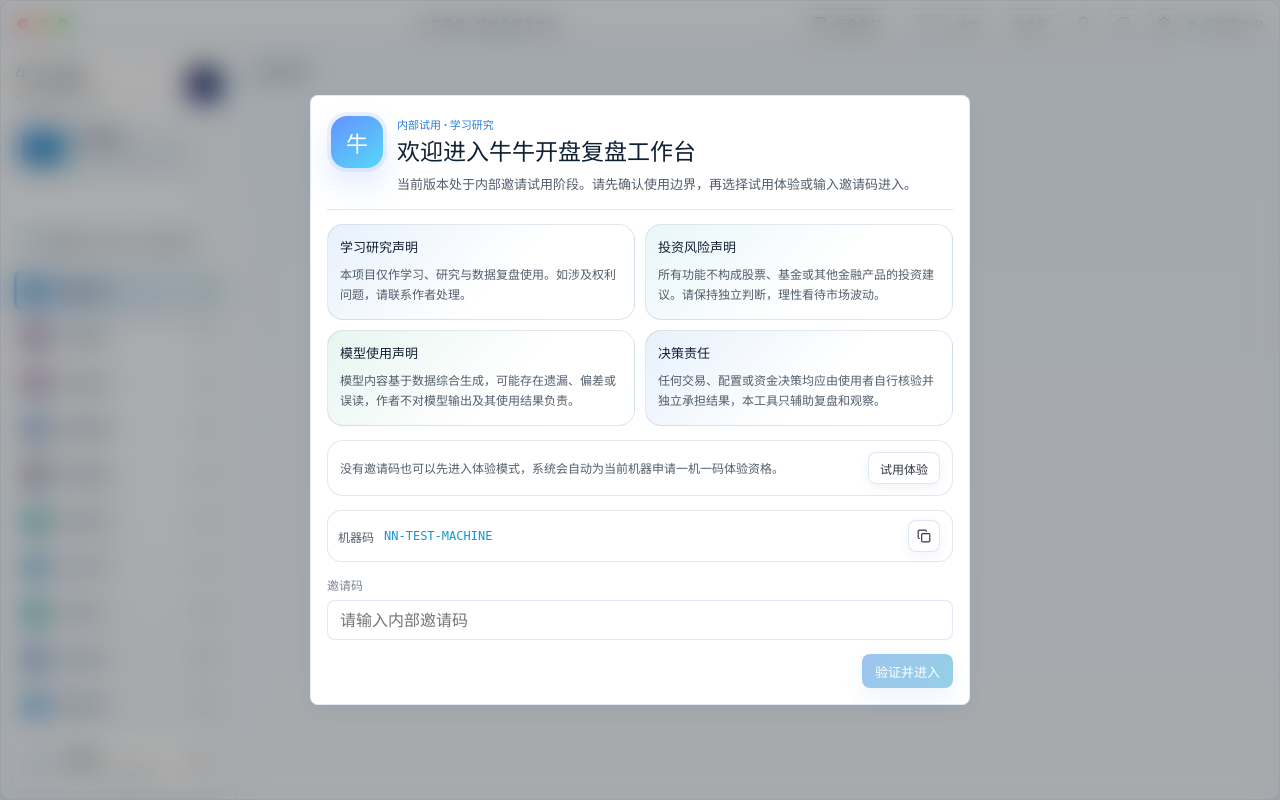
Scenario: AppShell › accepts a non-empty invitation code and stores invited access
In the field labelled "邀请码": x=640, y=620 [327,600,953,640], type "  alpha-2026  "
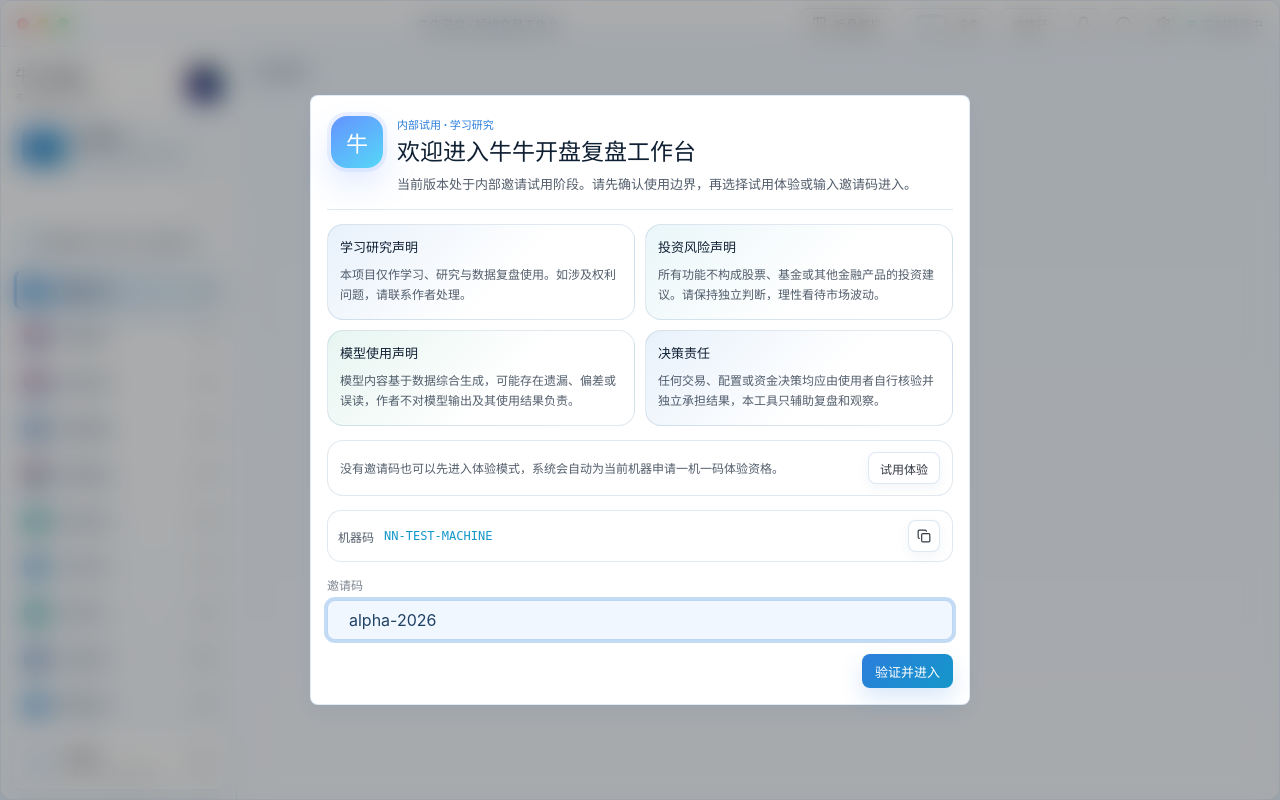
Click the button "验证并进入": x=908, y=671 [862,654,953,688]
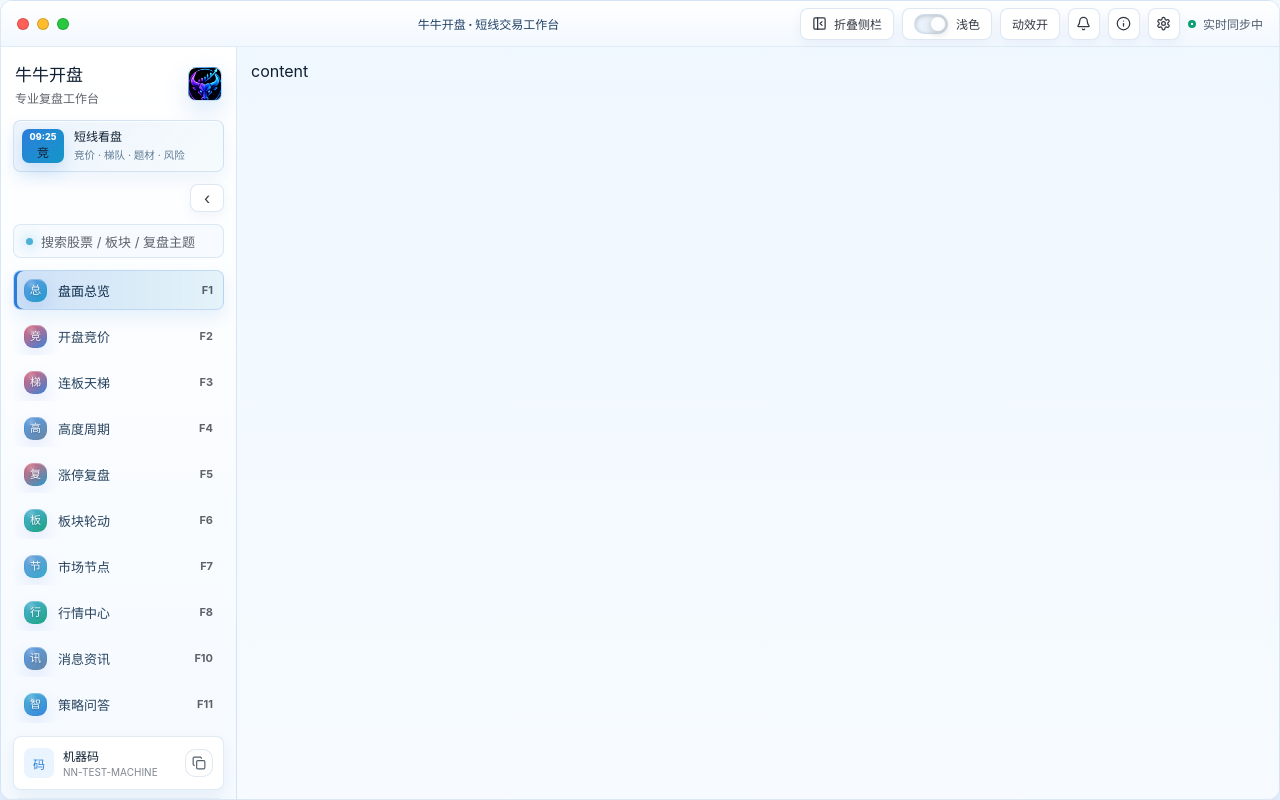
Result: the dialog "牛牛开盘使用声明与邀请验证" is gone
